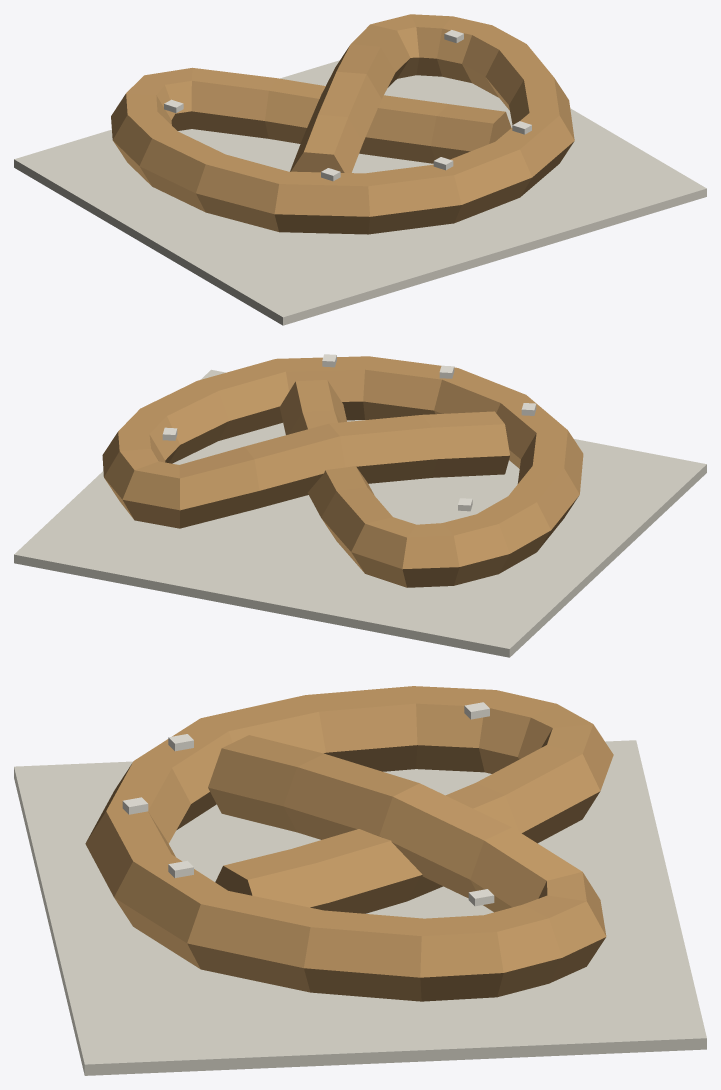
Rendered from b16_soft_street_pretzel.glb.
3 renders of one model, top to bottom at view 1: azimuth 30°, elevation 25°; view 2: azimuth 150°, elevation 25°; view 3: azimuth 270°, elevation 25°, orthographic. The views are drawn at different scales.
Parts seen in each view (by area): view 1: b16_soft_street_pretzel; view 2: b16_soft_street_pretzel; view 3: b16_soft_street_pretzel.
Boxes of the visible parts, x1,y1,x2,y2 form: b16_soft_street_pretzel: (14, 14, 706, 325); b16_soft_street_pretzel: (14, 354, 706, 657); b16_soft_street_pretzel: (14, 686, 706, 1075).
Size of the model in its own units: 0.1841 by 0.0342 by 0.1662.
